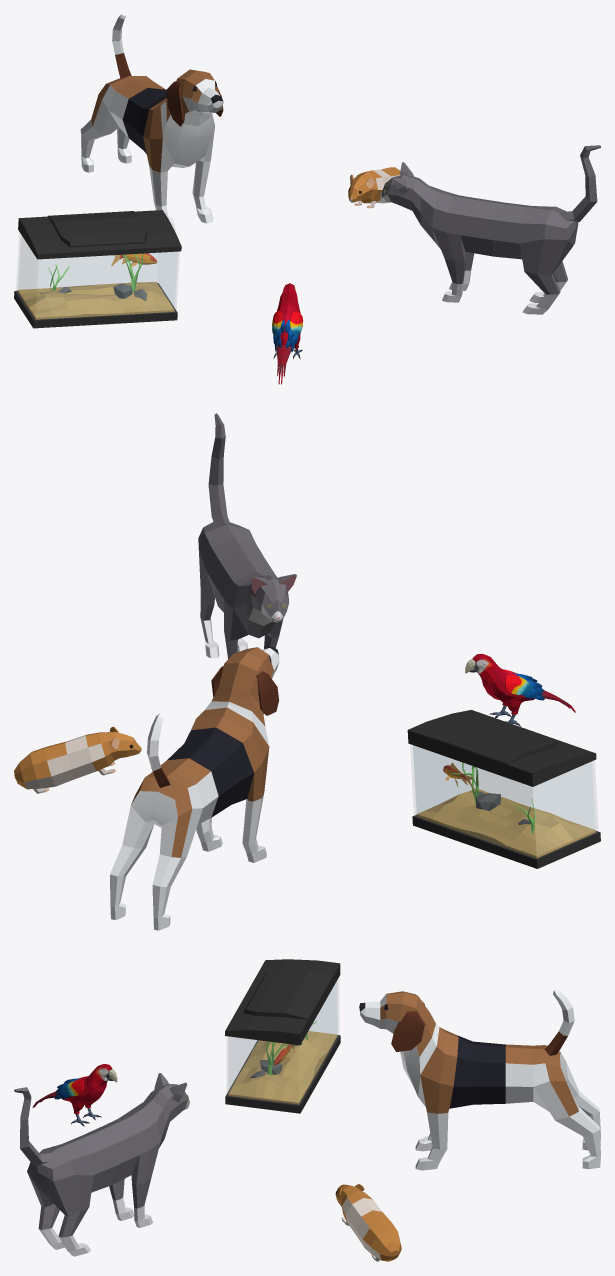
File: untitled_windmill.glb
3 renders of one model, top to bottom at view 1: azimuth 30°, elevation 25°; view 2: azimuth 150°, elevation 25°; view 3: azimuth 270°, elevation 25°, orthographic. The views are drawn at different scales.
Parts seen in each view (by area): view 1: Fish_Tank_Cube.003, Geo_Cat, Geo_Beagle, Node, Geo_Hamster; view 2: Fish_Tank_Cube.003, Geo_Beagle, Geo_Cat, Geo_Hamster, Node; view 3: Geo_Beagle, Fish_Tank_Cube.003, Geo_Cat, Geo_Hamster, Node.
Part boxes in pixels (left/top/right/bottom): Fish_Tank_Cube.003: left=14, top=210, right=181, bottom=328; Geo_Cat: left=380, top=145, right=600, bottom=314; Geo_Beagle: left=80, top=14, right=223, bottom=231; Node: left=272, top=283, right=303, bottom=384; Geo_Hamster: left=348, top=167, right=400, bottom=208; Fish_Tank_Cube.003: left=407, top=710, right=600, bottom=868; Geo_Beagle: left=110, top=647, right=279, bottom=930; Geo_Cat: left=198, top=413, right=296, bottom=658; Geo_Hamster: left=14, top=726, right=141, bottom=793; Node: left=465, top=653, right=575, bottom=726; Geo_Beagle: left=359, top=990, right=600, bottom=1170; Fish_Tank_Cube.003: left=225, top=959, right=340, bottom=1113; Geo_Cat: left=14, top=1073, right=189, bottom=1256; Geo_Hamster: left=335, top=1184, right=401, bottom=1261; Node: left=32, top=1064, right=117, bottom=1126.
Bounding box in the file's own units: 56.02 × 21.52 × 61.84.
Materials: 12 (5 with a texture image).
